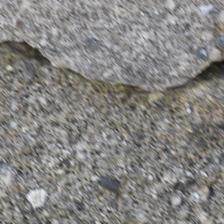Crack: (2, 16, 218, 82)
